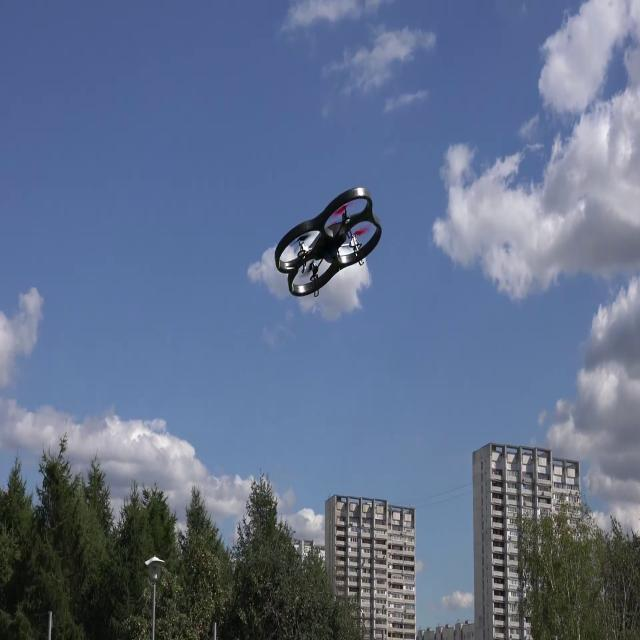Drons: (270, 184, 385, 306)
